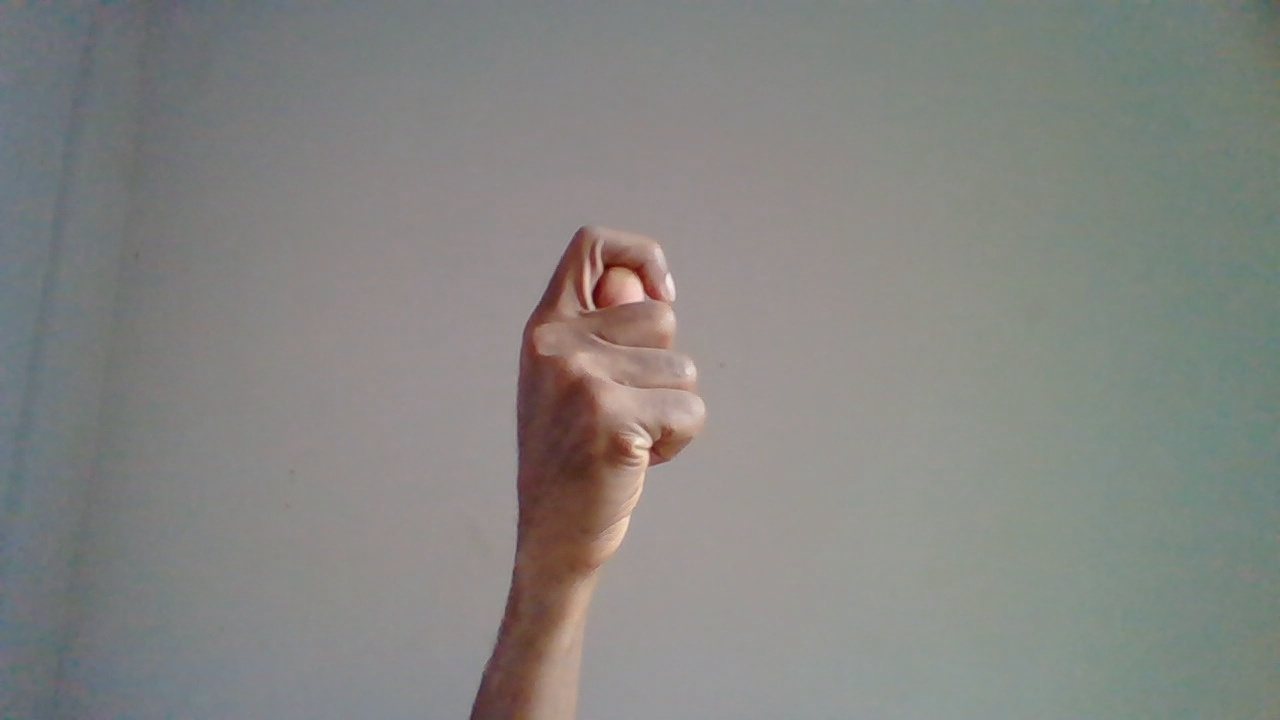che: (518, 225, 708, 687)
